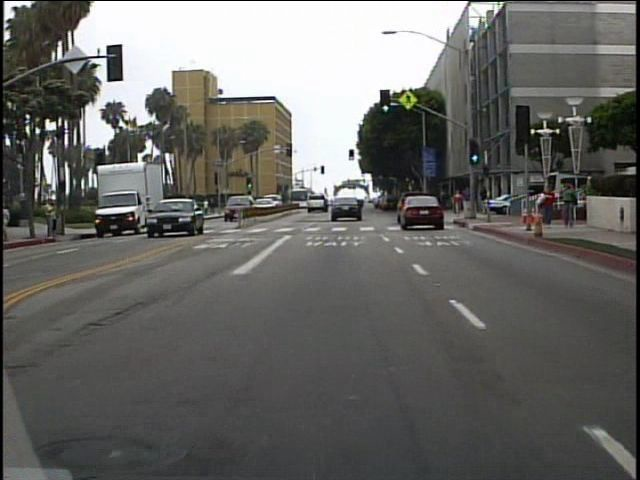person: (44, 195, 61, 240), (449, 190, 464, 218)
